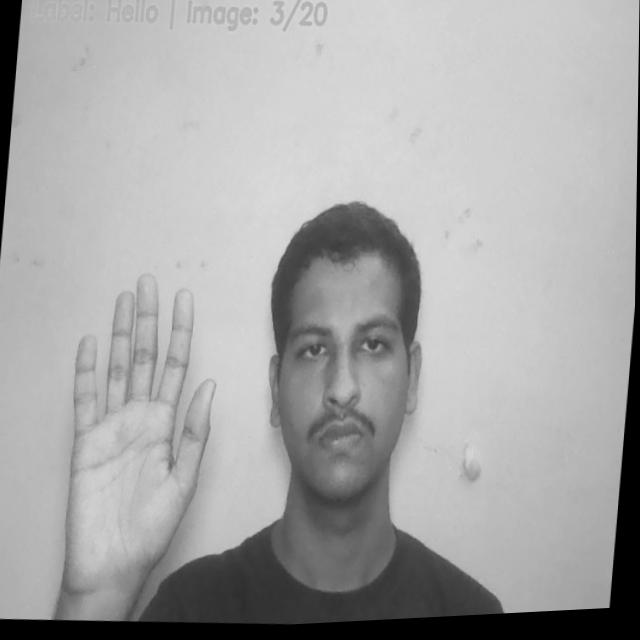Hello: (42, 249, 228, 576)
